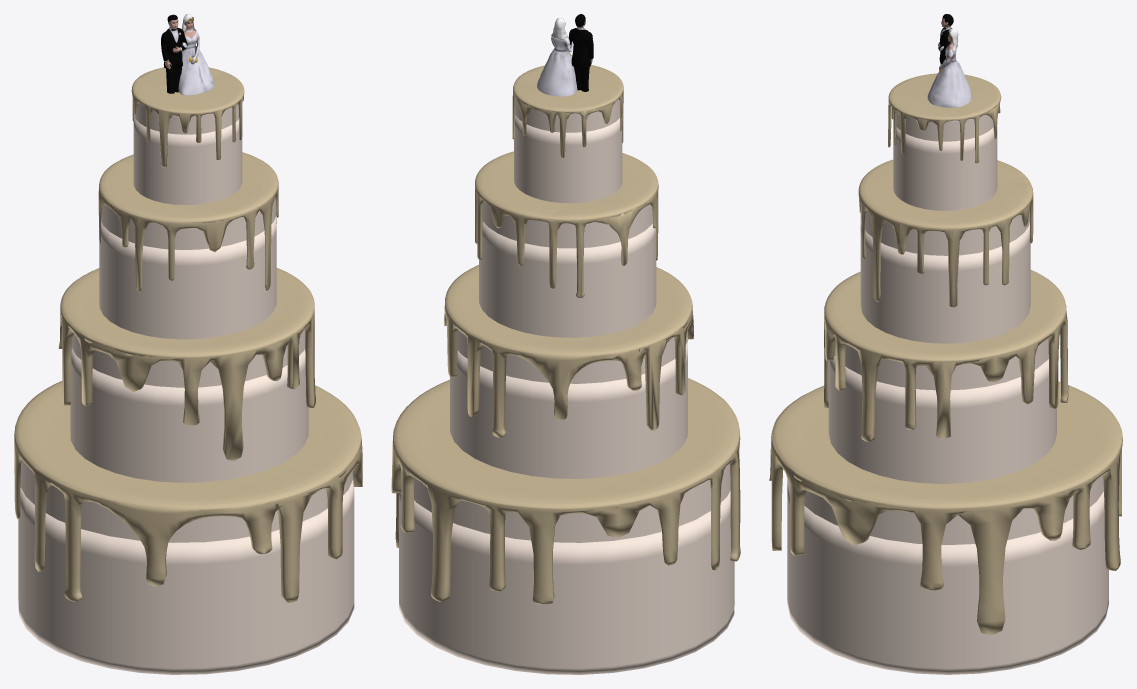
Rendered from 4-tier-white-ganache-bridegroom.glb.
3 renders of one model, left to right at view 1: azimuth 30°, elevation 25°; view 2: azimuth 150°, elevation 25°; view 3: azimuth 270°, elevation 25°, orthographic.
Visible parts, largest first — view 1: 3.001, tHE ICING.008, 3, 2, tHE ICING.007, tHE ICING.006, 1, tHE ICING.009, 13501_Cake_Topper_Bride_Groom_v1_L1.001; view 2: 3.001, tHE ICING.008, 3, 2, tHE ICING.007, tHE ICING.006, 1, tHE ICING.009, 13501_Cake_Topper_Bride_Groom_v1_L1.001; view 3: 3.001, tHE ICING.008, 3, 2, tHE ICING.007, tHE ICING.006, 1, tHE ICING.009, 13501_Cake_Topper_Bride_Groom_v1_L1.001.
Boxes of the visible parts, <box> form: 3.001: <box>18,460,354,674</box>; tHE ICING.008: <box>14,381,362,602</box>; 3: <box>70,329,308,482</box>; 2: <box>99,196,276,339</box>; tHE ICING.007: <box>58,268,315,460</box>; tHE ICING.006: <box>98,152,278,291</box>; 1: <box>133,103,242,204</box>; tHE ICING.009: <box>131,67,244,167</box>; 13501_Cake_Topper_Bride_Groom_v1_L1.001: <box>161,14,214,95</box>; 3.001: <box>399,464,734,674</box>; tHE ICING.008: <box>391,378,740,604</box>; 3: <box>450,330,687,478</box>; 2: <box>479,200,656,337</box>; tHE ICING.007: <box>444,265,693,437</box>; tHE ICING.006: <box>475,151,658,297</box>; 1: <box>514,96,622,203</box>; tHE ICING.009: <box>512,65,623,157</box>; 13501_Cake_Topper_Bride_Groom_v1_L1.001: <box>537,14,593,96</box>; 3.001: <box>787,475,1108,674</box>; tHE ICING.008: <box>769,381,1122,635</box>; 3: <box>828,338,1056,483</box>; 2: <box>860,204,1030,343</box>; tHE ICING.007: <box>824,270,1068,441</box>; tHE ICING.006: <box>858,159,1033,307</box>; 1: <box>893,111,997,210</box>; tHE ICING.009: <box>888,73,1001,163</box>; 13501_Cake_Topper_Bride_Groom_v1_L1.001: <box>927,14,972,107</box>.
Bounding box in the file's own units: 4.52 × 8.54 × 4.69.
3 materials, 1 textured.
